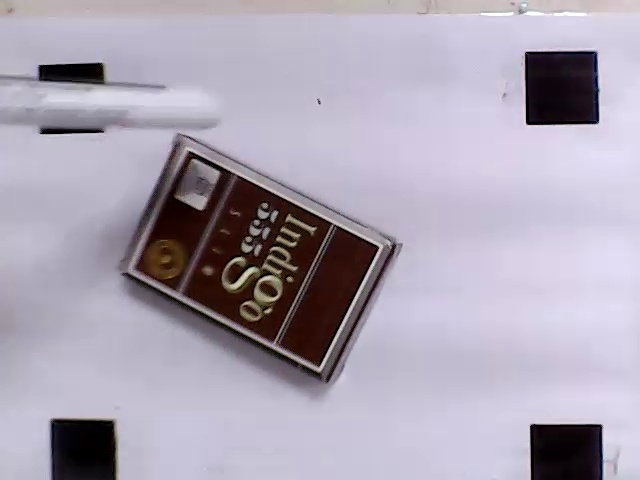BEX: (131, 148, 381, 370)
